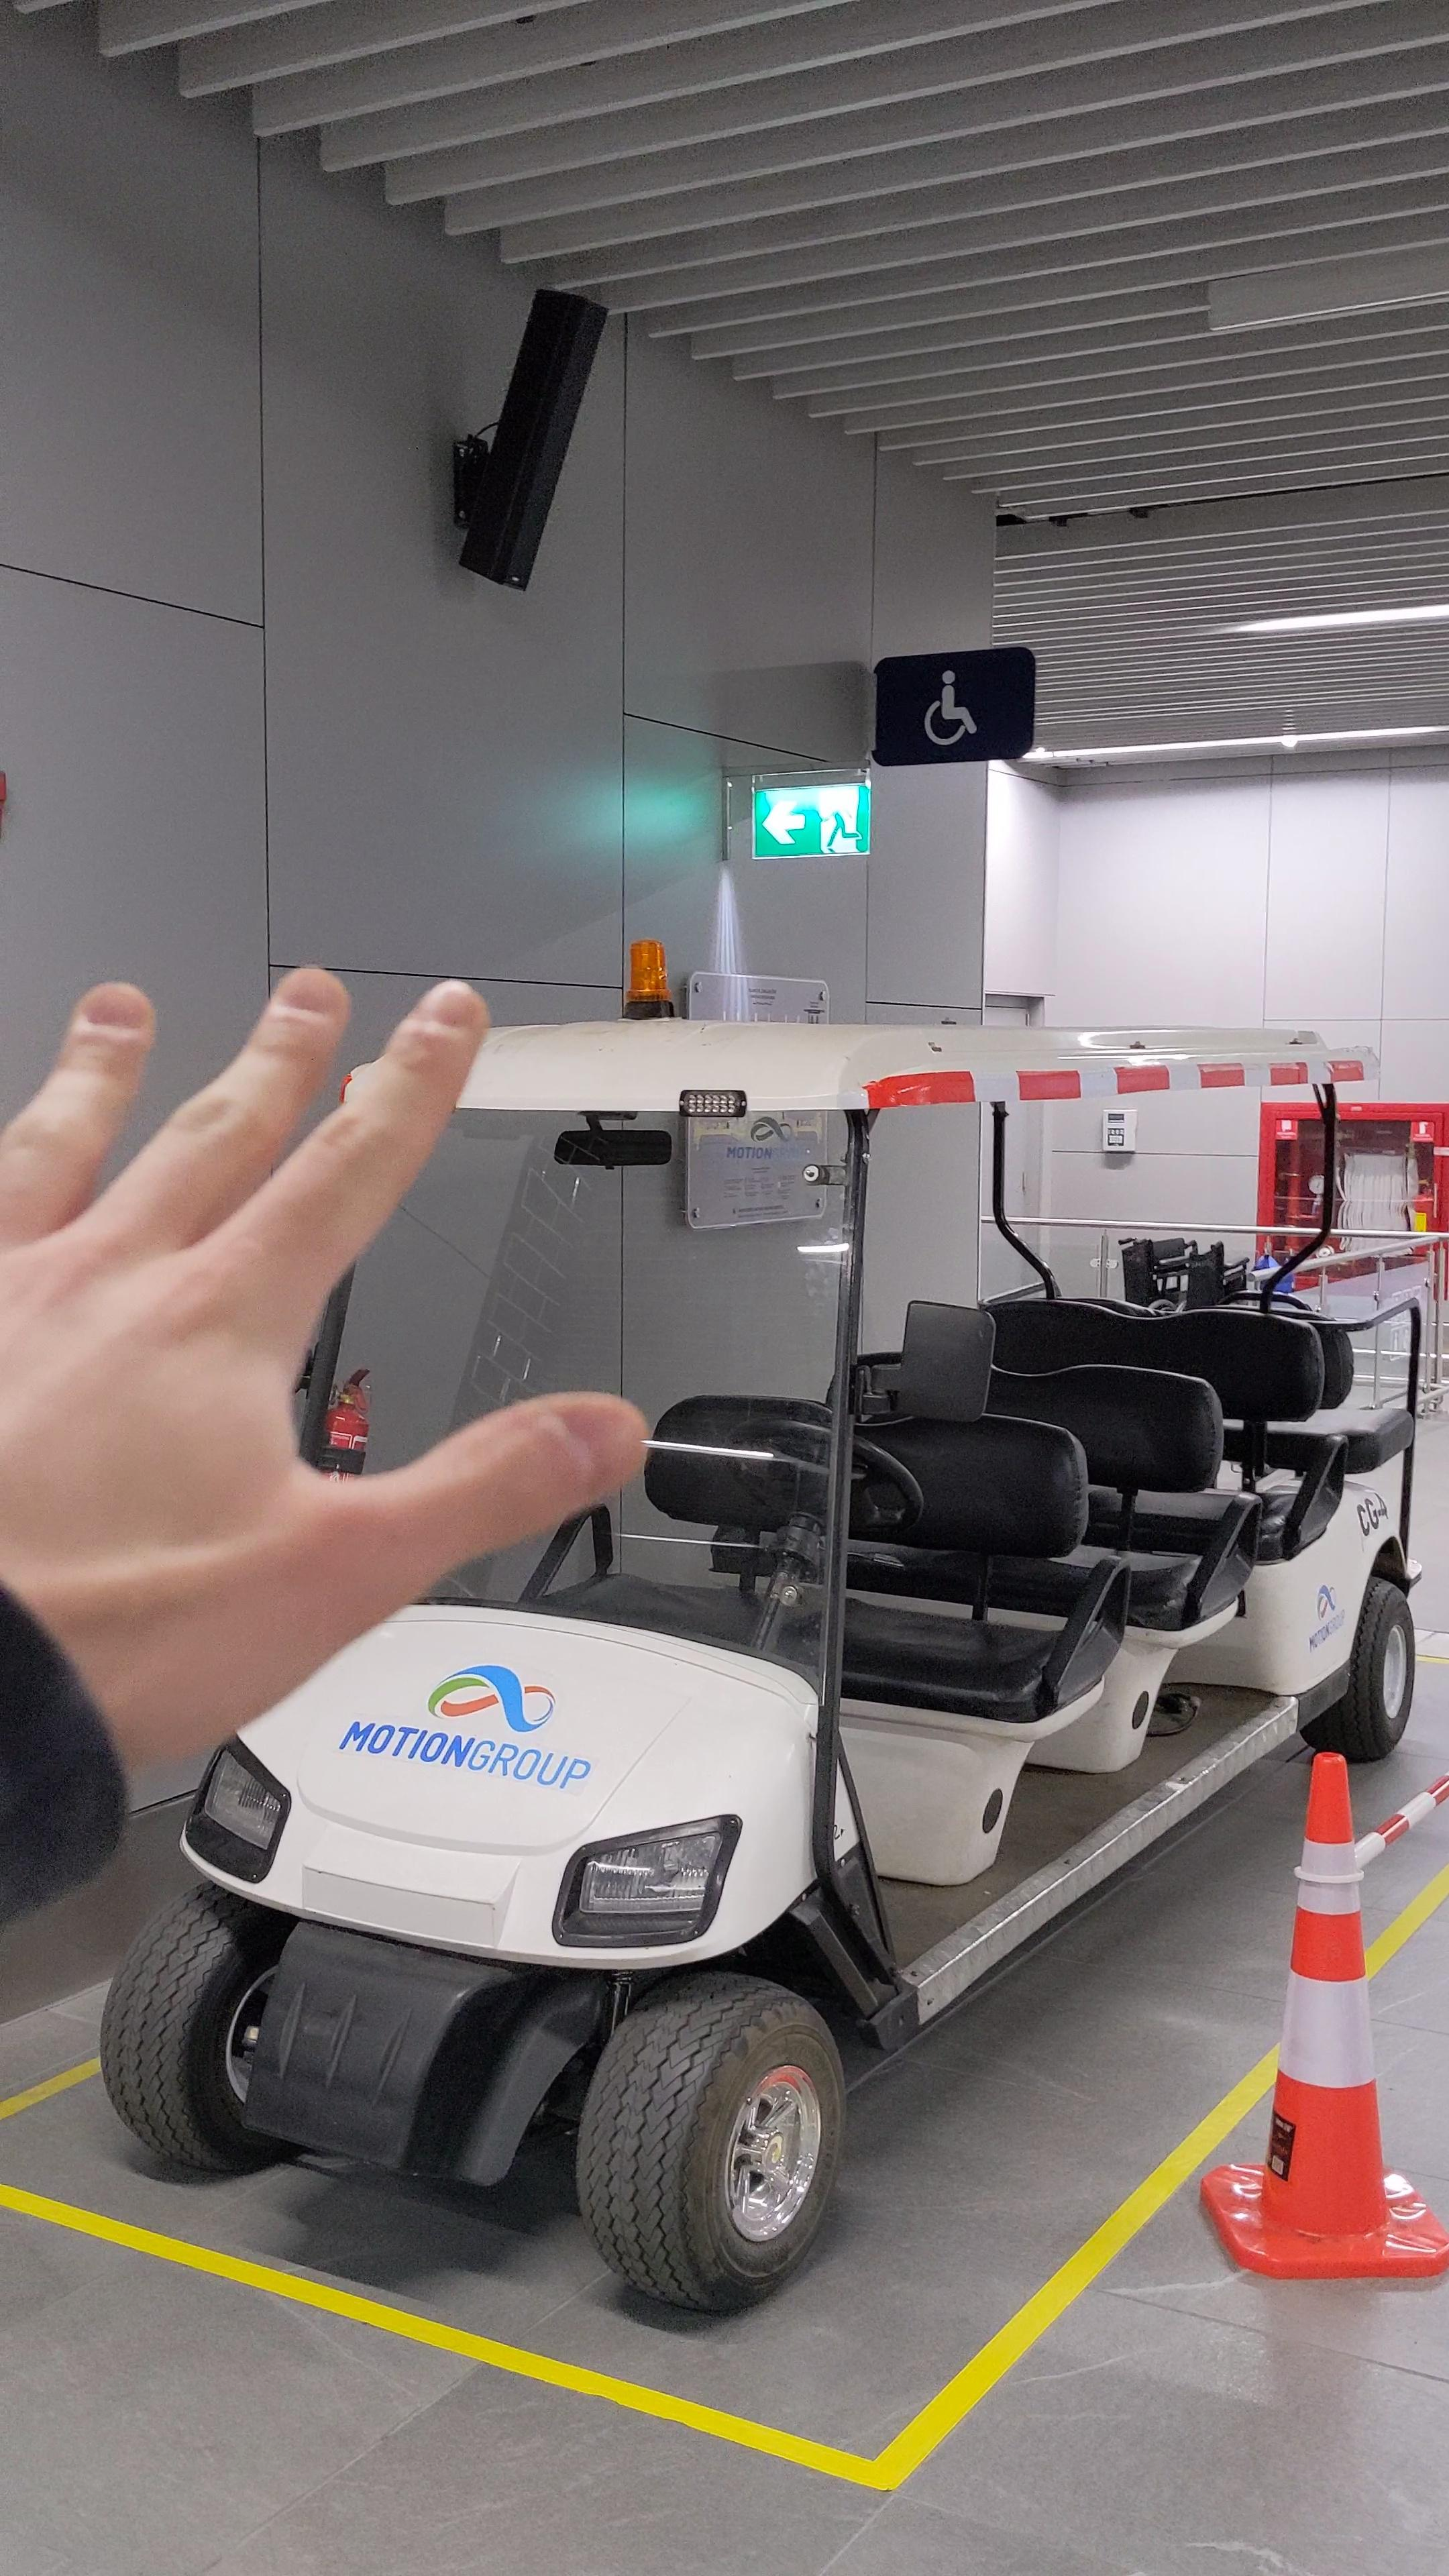emergency exit: (817, 786, 863, 856)
emergency left arrow: (761, 796, 809, 849)
handicapped symbol: (922, 669, 980, 747)
